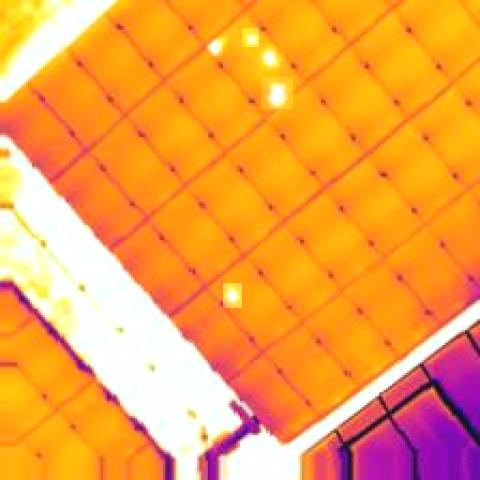fault: (262, 77, 294, 109), (259, 45, 281, 71), (223, 283, 242, 308), (206, 38, 229, 58), (242, 28, 259, 47)
